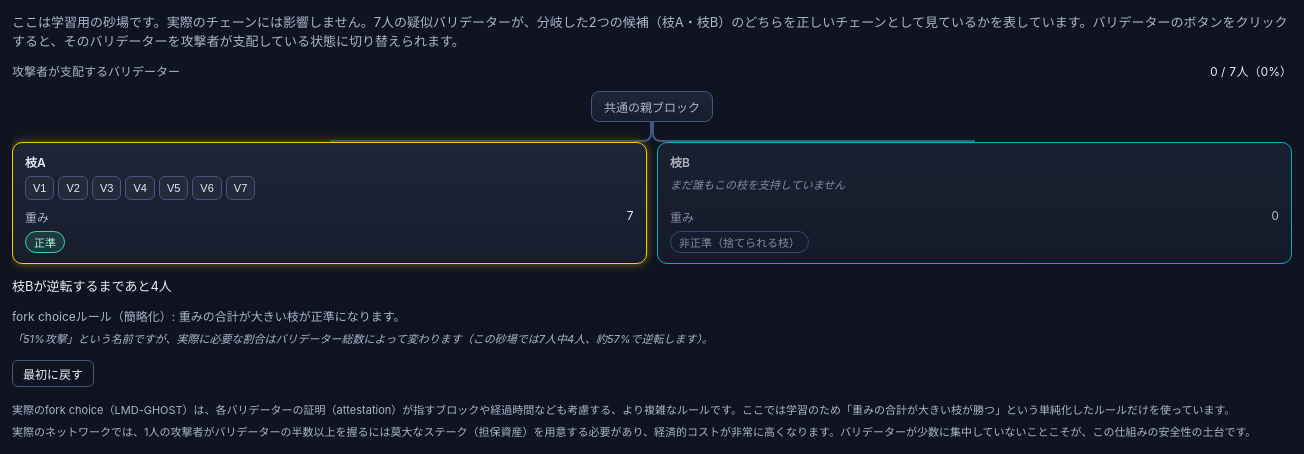
Test case: FiftyOnePercentAttackDemoView: reset while flashes are in flight › leaves no pending flash timer behind after a reset
Click the button with test id "attack51-demo-validator-1". click: (40, 188)
box: left=25, top=176, right=54, bottom=200
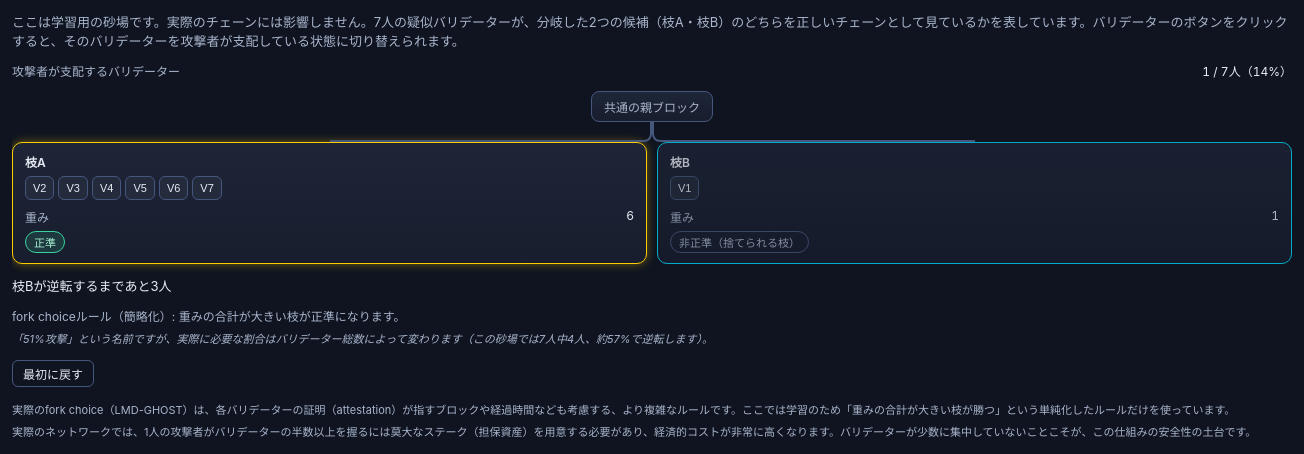
Click the button with test id "attack51-demo-validator-2". click: (40, 188)
box: left=25, top=176, right=54, bottom=200
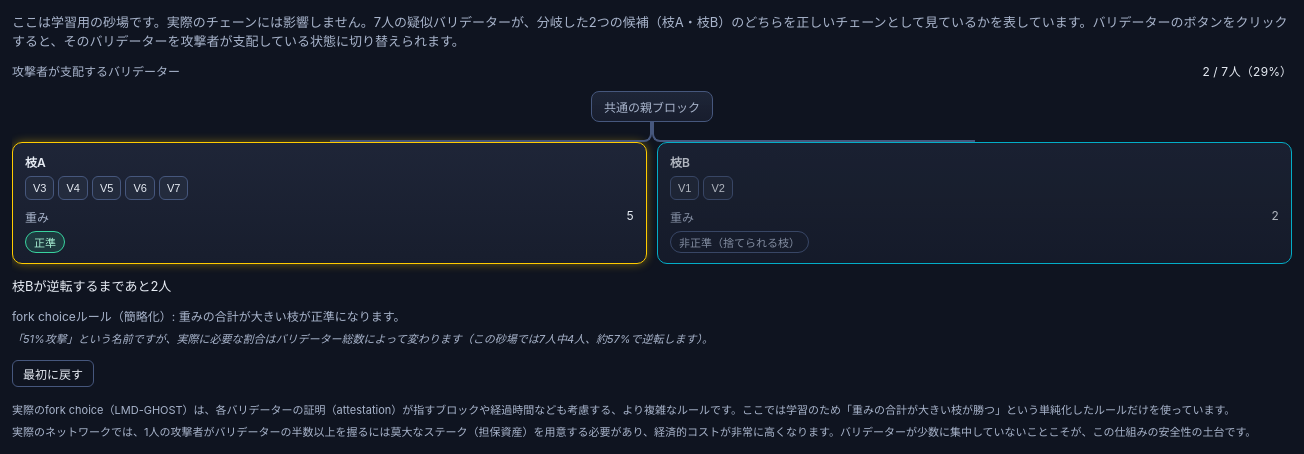
Click the button with test id "attack51-demo-validator-3". click: (40, 188)
box: left=25, top=176, right=54, bottom=200
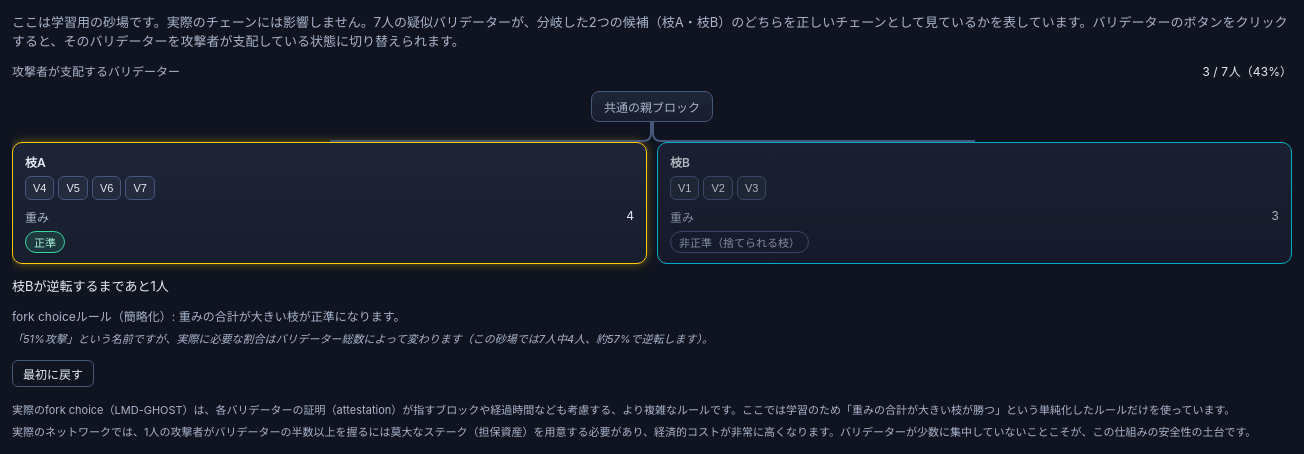
Click the button with test id "attack51-demo-validator-4". click: (40, 188)
box: left=25, top=176, right=54, bottom=200
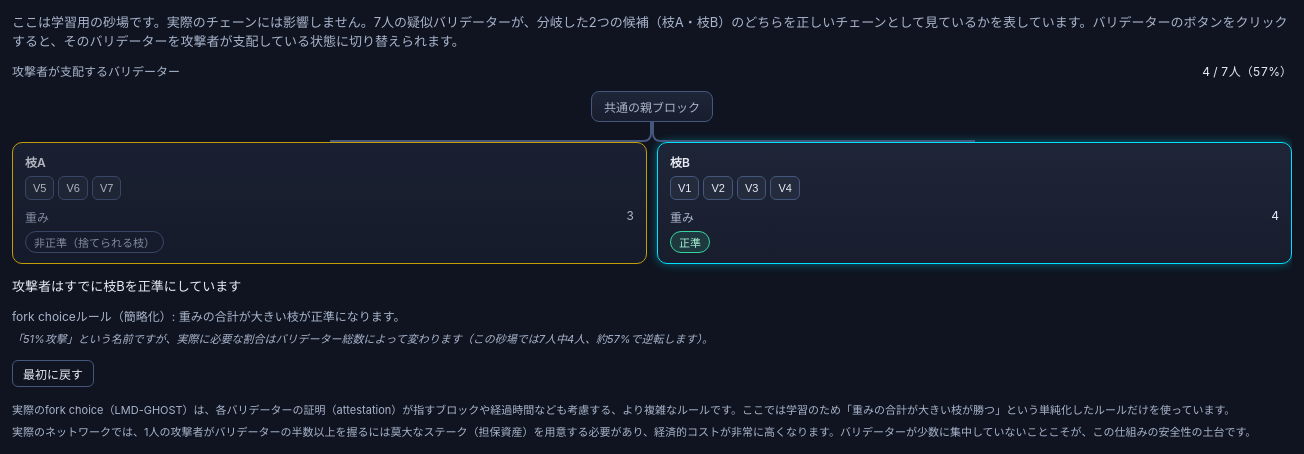
Click the button with test id "attack51-demo-reset". click: (53, 374)
box: left=12, top=360, right=94, bottom=387
Wait 10000 ms
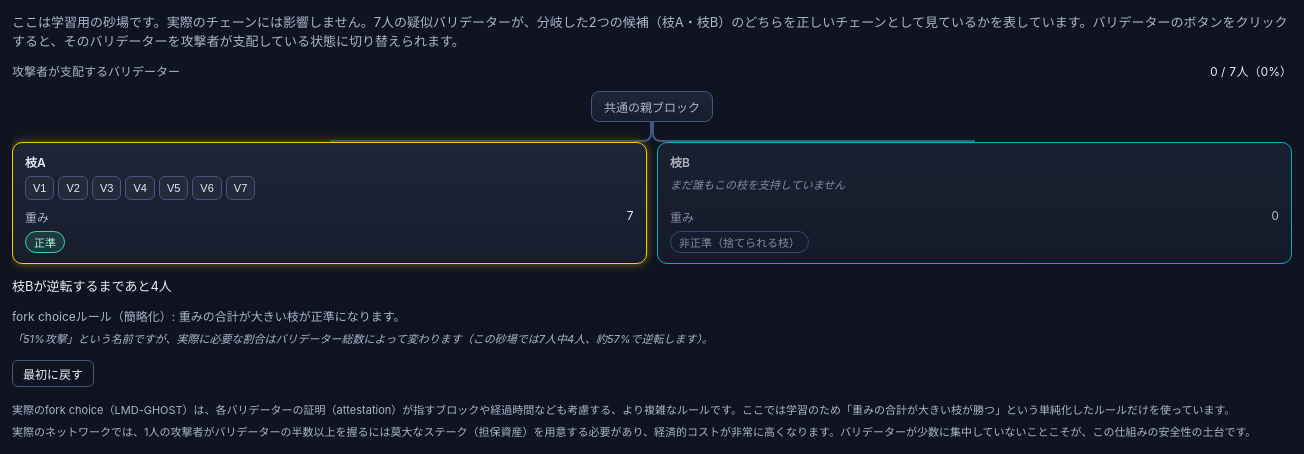
Expected: the text with test id "attack51-demo-branch-a-weight" reads "7", left=626, top=208, right=634, bottom=223
